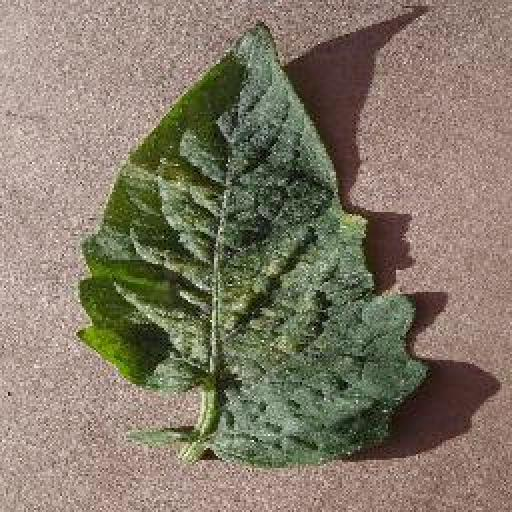disease_tomato: (78, 17, 424, 467)
